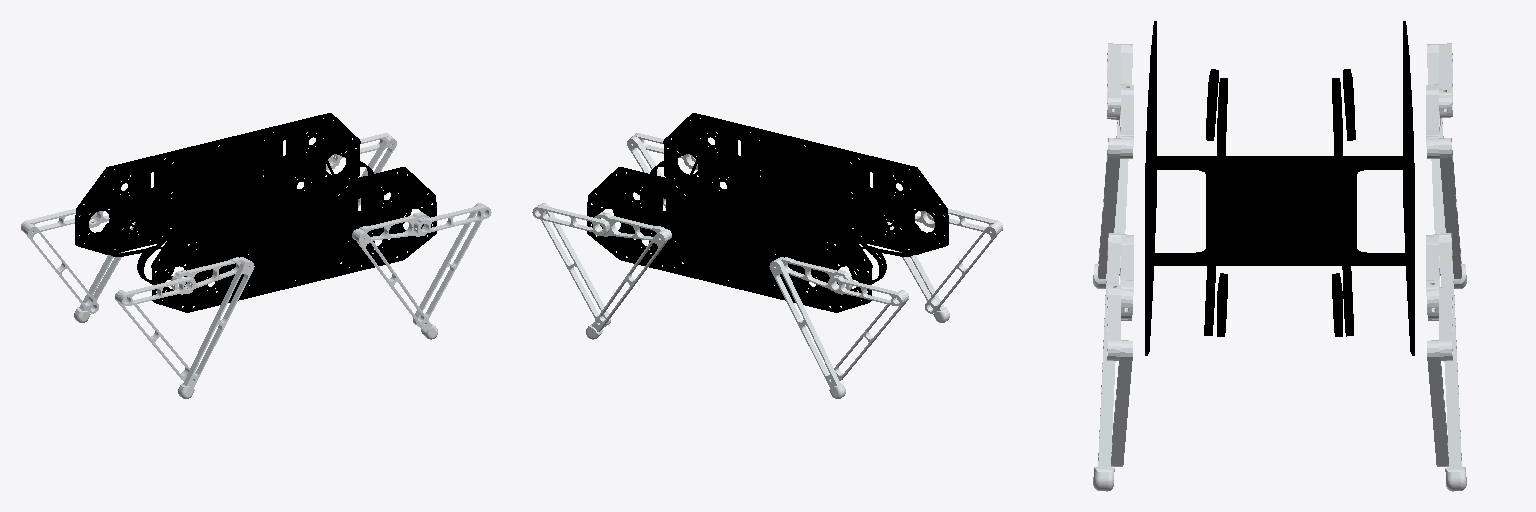
--- Facts derived from the render (not from the file) ---
Views: 3 orthographic renders of the robot side by side, from view 1: azimuth 30°, elevation 25°; view 2: azimuth 150°, elevation 25°; view 3: azimuth 270°, elevation 25°.
Model doggo_description with 22 links and 21 joints (16 continuous, 5 fixed), rooted at base_link, posed all joints at 0.
Links seen in each view (by area): view 1: frame, leg33, leg43, leg44, leg41, leg32, leg24, leg42, leg31, leg34, leg23, leg22 (+1 smaller); view 2: frame, leg23, leg13, leg14, leg11, leg22, leg34, leg12, leg21, leg24, leg33, leg32; view 3: frame, leg14, leg44, leg13, leg43, leg23, leg33, leg24, leg34, leg12, leg42, leg32 (+5 smaller).
Link boxes in pixels (x1=…): frame: x1=75, y1=113, x2=436, y2=312; leg33: x1=183, y1=259, x2=254, y2=388; leg43: x1=413, y1=203, x2=485, y2=326; leg44: x1=355, y1=231, x2=431, y2=331; leg41: x1=414, y1=205, x2=491, y2=234; leg32: x1=119, y1=277, x2=195, y2=305; leg24: x1=24, y1=224, x2=98, y2=313; leg42: x1=352, y1=212, x2=431, y2=240; leg31: x1=171, y1=257, x2=245, y2=294; leg34: x1=115, y1=290, x2=189, y2=380; leg23: x1=79, y1=220, x2=135, y2=312; leg22: x1=21, y1=204, x2=96, y2=232; frame: x1=587, y1=113, x2=948, y2=312; leg23: x1=769, y1=259, x2=840, y2=388; leg13: x1=538, y1=203, x2=610, y2=326; leg14: x1=592, y1=231, x2=668, y2=331; leg11: x1=532, y1=205, x2=609, y2=235; leg22: x1=828, y1=275, x2=904, y2=305; leg34: x1=925, y1=224, x2=999, y2=313; leg12: x1=592, y1=212, x2=671, y2=240; leg21: x1=778, y1=257, x2=852, y2=294; leg24: x1=834, y1=290, x2=908, y2=380; leg33: x1=884, y1=215, x2=944, y2=312; leg32: x1=927, y1=209, x2=1002, y2=232; frame: x1=1145, y1=21, x2=1414, y2=355; leg14: x1=1439, y1=233, x2=1461, y2=468; leg44: x1=1098, y1=233, x2=1120, y2=468; leg13: x1=1427, y1=340, x2=1448, y2=466; leg43: x1=1111, y1=340, x2=1132, y2=466; leg23: x1=1439, y1=138, x2=1461, y2=278; leg33: x1=1098, y1=138, x2=1120, y2=278; leg24: x1=1427, y1=44, x2=1445, y2=275; leg34: x1=1114, y1=44, x2=1132, y2=275; leg12: x1=1426, y1=234, x2=1439, y2=320; leg42: x1=1120, y1=234, x2=1133, y2=320; leg32: x1=1107, y1=43, x2=1120, y2=119.
Bounding box of the posed robot: 0.5458 × 0.2824 × 0.2306 m (x, y, z).
21 mesh visuals loaded from 22 distinct referenced files (21 binary STL); not drawn: 1 (reference not matched to a file when rendering).

URDF robot description (doggo_description):
<?xml version="1.0" encoding="utf-8"?>
<!-- This URDF was automatically created by SolidWorks to URDF Exporter! Originally created by Stephen Brawner ([email redacted]) 
     Commit Version: 1.5.1-0-g916b5db  Build Version: 1.5.7152.31018
     For more information, please see http://wiki.ros.org/sw_urdf_exporter -->
<robot
  name="doggo_description">

    <gazebo reference="base_link">
		<material>Gazebo/White</material>
	</gazebo>
	<gazebo reference="frame">
		<material>Gazebo/Black</material>
	</gazebo>

  <link
    name="base_link">
    <inertial>
      <origin
        xyz="4.0137E-07 -5.4265E-09 -0.0050974"
        rpy="0 0 0" />
      <!-- 1.6553 -->
      <mass
        value="1.6553" />
      <inertia
        ixx="0.0019798"
        ixy="-4.1121E-08"
        ixz="-3.9928E-09"
        iyy="0.0014157"
        iyz="-4.2669E-10"
        izz="0.001756" />
    </inertial>
    <visual>
      <origin
        xyz="0 0 0"
        rpy="0 0 0" />
      <geometry>
        <mesh
          filename="package://doggo_description/meshes/base_link." />
      </geometry>
      <material
        name="">
        <color
          rgba="1 1 1 1" />
      </material>
    </visual>
    <collision>
      <origin
        xyz="0 0 0"
        rpy="0 0 0" />
      <geometry>
        <mesh
          filename="package://doggo_description/meshes/base_link." />
      </geometry>
    </collision>
  </link>
  <link
    name="frame">
    <inertial>
      <origin
        xyz="-0.098956 0.012762 -0.17499"
        rpy="0 0 0" />
      <mass
        value="0.44543" />
      <inertia
        ixx="0.004949"
        ixy="-1.5499E-05"
        ixz="2.3781E-15"
        iyy="0.0046541"
        iyz="-1.2495E-16"
        izz="0.00060534" />
    </inertial>
    <visual>
      <origin
        xyz="0 0 0"
        rpy="0 0 0" />
      <geometry>
        <mesh
          filename="package://doggo_description/meshes/frame.STL" />
      </geometry>
      <material
        name="">
        <color
          rgba="0 0 0 1" />
      </material>
    </visual>
    <collision>
      <origin
        xyz="0 0 0"
        rpy="0 0 0" />
      <geometry>
        <mesh
          filename="package://doggo_description/meshes/frame.STL" />
      </geometry>
    </collision>
  </link>
  <joint
    name="base_frame"
    type="fixed">
    <origin
      xyz="-0.174999999999967 -0.0992757156092079 -0.0118897657684994"
      rpy="1.57079632679489 -0.0523598775598229 -1.5707963267949" />
    <parent
      link="base_link" />
    <child
      link="frame" />
    <axis
      xyz="0 0 0" />
  </joint>
  <link
    name="leg11">
    <inertial>
      <origin
        xyz="0.00473641153079969 -0.0400546917663641 -0.000402773248607047"
        rpy="0 0 0" />
      <mass
        value="0.0177492811466513" />
      <inertia
        ixx="2.26666365128031E-05"
        ixy="-7.05482831182034E-13"
        ixz="-2.10434595791076E-13"
        iyy="8.22376388767111E-07"
        iyz="2.84555978380763E-07"
        izz="2.21159117116047E-05" />
    </inertial>
    <visual>
      <origin
        xyz="0 0 0"
        rpy="0 0 0" />
      <geometry>
        <mesh
          filename="package://doggo_description/meshes/leg11.STL" />
      </geometry>
      <material
        name="">
        <color
          rgba="0.898039215686275 0.917647058823529 0.929411764705882 1" />
      </material>
    </visual>
    <collision>
      <origin
        xyz="0 0 0"
        rpy="0 0 0" />
      <geometry>
        <mesh
          filename="package://doggo_description/meshes/leg11.STL" />
      </geometry>
    </collision>
  </link>
  <joint
    name="frame_leg11"
    type="continuous">
    <origin
      xyz="-0.219712353732748 0.0126440812806081 -0.35"
      rpy="1.57079632679489 0 3.03687289847014" />
    <parent
      link="frame" />
    <child
      link="leg11" />
    <axis
      xyz="1 0 0" />
  </joint>
  <link
    name="leg13">
    <inertial>
      <origin
        xyz="-0.0047885894733085 -0.0778812653760268 5.27355936696949E-16"
        rpy="0 0 0" />
      <mass
        value="0.0249183575640696" />
      <inertia
        ixx="8.50714680974236E-05"
        ixy="-5.24101636113598E-21"
        ixz="-8.470329472543E-22"
        iyy="1.15093364635689E-06"
        iyz="-1.98981398276928E-20"
        izz="8.42973233783957E-05" />
    </inertial>
    <visual>
      <origin
        xyz="0 0 0"
        rpy="0 0 0" />
      <geometry>
        <mesh
          filename="package://doggo_description/meshes/leg13.STL" />
      </geometry>
      <material
        name="">
        <color
          rgba="0.898039215686275 0.917647058823529 0.929411764705882 1" />
      </material>
    </visual>
    <collision>
      <origin
        xyz="0 0 0"
        rpy="0 0 0" />
      <geometry>
        <mesh
          filename="package://doggo_description/meshes/leg13.STL" />
      </geometry>
    </collision>
  </link>
  <joint
    name="leg11_leg13"
    type="continuous">
    <origin
      xyz="0 -0.09 0"
      rpy="2.18846006023504 0 0" />
    <parent
      link="leg11" />
    <child
      link="leg13" />
    <axis
      xyz="1 0 0" />
  </joint>
  <link
    name="leg12">
    <inertial>
      <origin
        xyz="-0.00478858450409037 -0.0250709741997628 -0.000508253782198557"
        rpy="0 0 0" />
      <mass
        value="0.0248452488629152" />
      <inertia
        ixx="3.18814346047358E-05"
        ixy="-4.21856160922778E-12"
        ixz="2.28295592667529E-14"
        iyy="1.87736029511954E-06"
        iyz="-4.60366749634874E-08"
        izz="3.03827516292619E-05" />
    </inertial>
    <visual>
      <origin
        xyz="0 0 0"
        rpy="0 0 0" />
      <geometry>
        <mesh
          filename="package://doggo_description/meshes/leg12.STL" />
      </geometry>
      <material
        name="">
        <color
          rgba="0.898039215686275 0.917647058823529 0.929411764705882 1" />
      </material>
    </visual>
    <collision>
      <origin
        xyz="0 0 0"
        rpy="0 0 0" />
      <geometry>
        <mesh
          filename="package://doggo_description/meshes/leg12.STL" />
      </geometry>
    </collision>
  </link>
  <joint
    name="frame_leg12"
    type="continuous">
    <origin
      xyz="-0.219712353732748 0.012644081280608 -0.34"
      rpy="-1.51465572998769 0 3.03687289847014" />
    <parent
      link="frame" />
    <child
      link="leg12" />
    <axis
      xyz="1 0 0" />
  </joint>
  <link
    name="leg14">
    <inertial>
      <origin
        xyz="0.00473641052669149 -0.0857929956840353 3.25017790459015E-14"
        rpy="0 0 0" />
      <mass
        value="0.0302066230898901" />
      <inertia
        ixx="0.000123370358212557"
        ixy="1.29304873354289E-20"
        ixz="6.35274710440725E-22"
        iyy="1.01593562451106E-06"
        iyz="-6.19368259905878E-17"
        izz="0.000122811175047875" />
    </inertial>
    <visual>
      <origin
        xyz="0 0 0"
        rpy="0 0 0" />
      <geometry>
        <mesh
          filename="package://doggo_description/meshes/leg14.STL" />
      </geometry>
      <material
        name="">
        <color
          rgba="0.898039215686275 0.917647058823529 0.929411764705882 1" />
      </material>
    </visual>
    <collision>
      <origin
        xyz="0 0 0"
        rpy="0 0 0" />
      <geometry>
        <mesh
          filename="package://doggo_description/meshes/leg14.STL" />
      </geometry>
    </collision>
  </link>
  <joint
    name="leg12_leg14"
    type="continuous">
    <origin
      xyz="0 -0.0800157546944706 -0.000561111111111217"
      rpy="-2.18846006023503 0 0" />
    <parent
      link="leg12" />
    <child
      link="leg14" />
    <axis
      xyz="1 0 0" />
  </joint>
  <link
    name="shoe1">
    <inertial>
      <origin
        xyz="0.00526347046647044 -0.179876460917477 -3.47847804865742E-08"
        rpy="0 0 0" />
      <mass
        value="0.0067619489677717" />
      <inertia
        ixx="2.89934238268779E-07"
        ixy="-4.53173826351264E-12"
        ixz="1.11948400149251E-11"
        iyy="3.09327713491595E-07"
        iyz="1.02889131421492E-11"
        izz="2.89371081098196E-07" />
    </inertial>
    <visual>
      <origin
        xyz="0 0 0"
        rpy="0 0 0" />
      <geometry>
        <mesh
          filename="package://doggo_description/meshes/shoe1.STL" />
      </geometry>
      <material
        name="">
        <color
          rgba="0.898039215686275 0.917647058823529 0.929411764705882 1" />
      </material>
    </visual>
    <collision>
      <origin
        xyz="0 0 0"
        rpy="0 0 0" />
      <geometry>
        <mesh
          filename="package://doggo_description/meshes/shoe1.STL" />
      </geometry>
      <surface>
        <friction>
	      <mu>1000.0</mu>
	      <mu2>1000.0</mu2>
	      <kp value="1.0" />
	      <kd value="10000000.0"/>
	      <fdir1>1 1 1 </fdir1>
	      <minDepth>0.005</minDepth>
        </friction>
      </surface>
    </collision>
  </link>
  <joint
    name="leg14_shoe1"
    type="fixed">
    <origin
      xyz="0.01 0 0"
      rpy="3.14159265358979 0 3.14159265358979" />
    <parent
      link="leg14" />
    <child
      link="shoe1" />
    <axis
      xyz="0 0 0" />
  </joint>
  <link
    name="leg21">
    <inertial>
      <origin
        xyz="0.00473641523493279 -0.0350552092175932 5.28600552103476E-05"
        rpy="0 0 0" />
      <mass
        value="0.0248452593322982" />
      <inertia
        ixx="3.18814417563457E-05"
        ixy="-4.03765604646941E-12"
        ixz="5.00275704685331E-14"
        iyy="1.87736032635851E-06"
        iyz="-4.60381023078403E-08"
        izz="3.03827587093249E-05" />
    </inertial>
    <visual>
      <origin
        xyz="0 0 0"
        rpy="0 0 0" />
      <geometry>
        <mesh
          filename="package://doggo_description/meshes/leg21.STL" />
      </geometry>
      <material
        name="">
        <color
          rgba="0.898039215686275 0.917647058823529 0.929411764705882 1" />
      </material>
    </visual>
    <collision>
      <origin
        xyz="0 0 0"
        rpy="0 0 0" />
      <geometry>
        <mesh
          filename="package://doggo_description/meshes/leg21.STL" />
      </geometry>
    </collision>
  </link>
  <joint
    name="frame_leg21"
    type="continuous">
    <origin
      xyz="-0.210239532679365 0.0116484476679836 0"
      rpy="1.51465572998769 0 3.03687289847014" />
    <parent
      link="frame" />
    <child
      link="leg21" />
    <axis
      xyz="1 0 0" />
  </joint>
  <link
    name="leg23">
    <inertial>
      <origin
        xyz="0.0047365130400379 -0.0857929956840341 3.4180991370647E-14"
        rpy="0 0 0" />
      <mass
        value="0.0302066230898895" />
      <inertia
        ixx="0.000123370358212556"
        ixy="-2.27305923607122E-19"
        ixz="0"
        iyy="1.01593562451131E-06"
        iyz="-6.34294052669368E-17"
        izz="0.000122811175047873" />
    </inertial>
    <visual>
      <origin
        xyz="0 0 0"
        rpy="0 0 0" />
      <geometry>
        <mesh
          filename="package://doggo_description/meshes/leg23.STL" />
      </geometry>
      <material
        name="">
        <color
          rgba="0.898039215686275 0.917647058823529 0.929411764705882 1" />
      </material>
    </visual>
    <collision>
      <origin
        xyz="0 0 0"
        rpy="0 0 0" />
      <geometry>
        <mesh
          filename="package://doggo_description/meshes/leg23.STL" />
      </geometry>
    </collision>
  </link>
  <joint
    name="leg21_leg23"
    type="continuous">
    <origin
      xyz="0.0095248974866534 -0.09 0"
      rpy="2.18846006023503 0 0" />
    <parent
      link="leg21" />
    <child
      link="leg23" />
    <axis
      xyz="1 0 0" />
  </joint>
  <link
    name="shoe2">
    <inertial>
      <origin
        xyz="0.00526334634534026 -0.179876470411932 -4.73843669024365E-08"
        rpy="0 0 0" />
      <mass
        value="0.00676194704431705" />
      <inertia
        ixx="2.89933725898764E-07"
        ixy="-3.59739076728077E-12"
        ixz="1.13806903467384E-11"
        iyy="3.09327965440927E-07"
        iyz="1.13005668961044E-11"
        izz="2.89371624270925E-07" />
    </inertial>
    <visual>
      <origin
        xyz="0 0 0"
        rpy="0 0 0" />
      <geometry>
        <mesh
          filename="package://doggo_description/meshes/shoe2.STL" />
      </geometry>
      <material
        name="">
        <color
          rgba="0.898039215686275 0.917647058823529 0.929411764705882 1" />
      </material>
    </visual>
    <collision>
      <origin
        xyz="0 0 0"
        rpy="0 0 0" />
      <geometry>
        <mesh
          filename="package://doggo_description/meshes/shoe2.STL" />
      </geometry>
      <surface>
        <friction>
	      <mu>1000.0</mu>
	      <mu2>1000.0</mu2>
	      <kp value="1.0" />
	      <kd value="10000000.0"/>
	      <fdir1>1 1 1 </fdir1>
	      <minDepth>0.005</minDepth>
        </friction>
      </surface>
    </collision>
  </link>
  <joint
    name="leg23_shoe2"
    type="fixed">
    <origin
      xyz="0.01 0 0"
      rpy="3.14159265358979 0 3.14159265358979" />
    <parent
      link="leg23" />
    <child
      link="shoe2" />
    <axis
      xyz="0 0 0" />
  </joint>
  <link
    name="leg22">
    <inertial>
      <origin
        xyz="0.00426141153079966 -0.0400546917663641 -0.0004027732486068"
        rpy="0 0 0" />
      <mass
        value="0.0177492811466513" />
      <inertia
        ixx="2.26666365128031E-05"
        ixy="-7.05482824567954E-13"
        ixz="-2.10434599496845E-13"
        iyy="8.22376388767116E-07"
        iyz="2.8455597838094E-07"
        izz="2.21159117116047E-05" />
    </inertial>
    <visual>
      <origin
        xyz="0 0 0"
        rpy="0 0 0" />
      <geometry>
        <mesh
          filename="package://doggo_description/meshes/leg22.STL" />
      </geometry>
      <material
        name="">
        <color
          rgba="0.898039215686275 0.917647058823529 0.929411764705882 1" />
      </material>
    </visual>
    <collision>
      <origin
        xyz="0 0 0"
        rpy="0 0 0" />
      <geometry>
        <mesh
          filename="package://doggo_description/meshes/leg22.STL" />
      </geometry>
    </collision>
  </link>
  <joint
    name="frame_leg22"
    type="continuous">
    <origin
      xyz="-0.220184751633048 0.01269373230066 0"
      rpy="-1.5707963267949 0 3.03687289847014" />
    <parent
      link="frame" />
    <child
      link="leg22" />
    <axis
      xyz="1 0 0" />
  </joint>
  <link
    name="leg24">
    <inertial>
      <origin
        xyz="-0.00526358947330857 -0.0778812653760269 5.27355936696949E-16"
        rpy="0 0 0" />
      <mass
        value="0.0249183575640697" />
      <inertia
        ixx="8.50714680974238E-05"
        ixy="-3.11052997544441E-20"
        ixz="-1.90582413132218E-21"
        iyy="1.15093364635692E-06"
        iyz="-2.22540536098204E-20"
        izz="8.42973233783957E-05" />
    </inertial>
    <visual>
      <origin
        xyz="0 0 0"
        rpy="0 0 0" />
      <geometry>
        <mesh
          filename="package://doggo_description/meshes/leg24.STL" />
      </geometry>
      <material
        name="">
        <color
          rgba="0.898039215686275 0.917647058823529 0.929411764705882 1" />
      </material>
    </visual>
    <collision>
      <origin
        xyz="0 0 0"
        rpy="0 0 0" />
      <geometry>
        <mesh
          filename="package://doggo_description/meshes/leg24.STL" />
      </geometry>
    </collision>
  </link>
  <joint
    name="leg22_leg24"
    type="continuous">
    <origin
      xyz="0 -0.09 0"
      rpy="-2.18846006023503 0 0" />
    <parent
      link="leg22" />
    <child
      link="leg24" />
    <axis
      xyz="1 0 0" />
  </joint>
  <link
    name="leg31">
    <inertial>
      <origin
        xyz="0.00676250496921826 -0.0350552195052921 5.28573289125152E-05"
        rpy="0 0 0" />
      <mass
        value="0.0248452488629152" />
      <inertia
        ixx="3.18814346047358E-05"
        ixy="-4.21856161706842E-12"
        ixz="2.28295600079067E-14"
        iyy="1.87736029511954E-06"
        iyz="-4.60366749635035E-08"
        izz="3.0382751629262E-05" />
    </inertial>
    <visual>
      <origin
        xyz="0 0 0"
        rpy="0 0 0" />
      <geometry>
        <mesh
          filename="package://doggo_description/meshes/leg31.STL" />
      </geometry>
      <material
        name="">
        <color
          rgba="0.898039215686275 0.917647058823529 0.929411764705882 1" />
      </material>
    </visual>
    <collision>
      <origin
        xyz="0 0 0"
        rpy="0 0 0" />
      <geometry>
        <mesh
          filename="package://doggo_description/meshes/leg31.STL" />
      </geometry>
    </collision>
  </link>
  <joint
    name="frame_leg31"
    type="continuous">
    <origin
      xyz="0.01 0 0"
      rpy="1.6269369236021 0 0" />
    <parent
      link="frame" />
    <child
      link="leg31" />
    <axis
      xyz="1 0 0" />
  </joint>
  <link
    name="leg33">
    <inertial>
      <origin
        xyz="0.0137813538834254 -0.0857929956840353 3.2460145682478E-14"
        rpy="0 0 0" />
      <mass
        value="0.0302066230898901" />
      <inertia
        ixx="0.000123370358212557"
        ixy="-1.34317587866361E-19"
        ixz="-1.27054942088145E-21"
        iyy="1.01593562451106E-06"
        iyz="-6.19601779196656E-17"
        izz="0.000122811175047875" />
    </inertial>
    <visual>
      <origin
        xyz="0 0 0"
        rpy="0 0 0" />
      <geometry>
        <mesh
          filename="package://doggo_description/meshes/leg33.STL" />
      </geometry>
      <material
        name="">
        <color
          rgba="0.898039215686275 0.917647058823529 0.929411764705882 1" />
      </material>
    </visual>
    <collision>
      <origin
        xyz="0 0 0"
        rpy="0 0 0" />
      <geometry>
        <mesh
          filename="package://doggo_description/meshes/leg33.STL" />
      </geometry>
    </collision>
  </link>
  <joint
    name="leg31_leg33"
    type="continuous">
    <origin
      xyz="0.00250614611657457 -0.0899999999999999 0"
      rpy="-2.18846006023503 0 0" />
    <parent
      link="leg31" />
    <child
      link="leg33" />
    <axis
      xyz="1 0 0" />
  </joint>
  <link
    name="shoe3">
    <inertial>
      <origin
        xyz="0.00378120255404579 -0.179876453100306 -6.02841195157522E-08"
        rpy="0 0 0" />
      <mass
        value="0.00676194246801817" />
      <inertia
        ixx="2.89933378234274E-07"
        ixy="-3.40400314738815E-12"
        ixz="1.07934692580414E-11"
        iyy="3.09327744880635E-07"
        iyz="1.15463175981782E-11"
        izz="2.89371750215061E-07" />
    </inertial>
    <visual>
      <origin
        xyz="0 0 0"
        rpy="0 0 0" />
      <geometry>
        <mesh
          filename="package://doggo_description/meshes/shoe3.STL" />
      </geometry>
      <material
        name="">
        <color
          rgba="0.898039215686275 0.917647058823529 0.929411764705882 1" />
      </material>
    </visual>
    <collision>
      <origin
        xyz="0 0 0"
        rpy="0 0 0" />
      <geometry>
        <mesh
          filename="package://doggo_description/meshes/shoe3.STL" />
      </geometry>
      <surface>
        <friction>
	      <mu>1000.0</mu>
	      <mu2>1000.0</mu2>
	      <kp value="1.0" />
	      <kd value="10000000.0"/>
	      <fdir1>1 1 1 </fdir1>
	      <minDepth>0.005</minDepth>
        </friction>
      </surface>
    </collision>
  </link>
  <joint
    name="leg33_shoe3"
    type="fixed">
    <origin
      xyz="0.01 0 0"
      rpy="0 0 0" />
    <parent
      link="leg33" />
    <child
      link="shoe3" />
    <axis
      xyz="0 0 0" />
  </joint>
  <link
    name="leg32">
    <inertial>
      <origin
        xyz="0.00613230165905557 -0.0400546917663641 -0.000402773248606731"
        rpy="0 0 0" />
      <mass
        value="0.0177492811466513" />
      <inertia
        ixx="2.26666365128031E-05"
        ixy="-7.05482818903421E-13"
        ixz="-2.10434597485142E-13"
        iyy="8.22376388767114E-07"
        iyz="2.84555978380928E-07"
        izz="2.21159117116047E-05" />
    </inertial>
    <visual>
      <origin
        xyz="0 0 0"
        rpy="0 0 0" />
      <geometry>
        <mesh
          filename="package://doggo_description/meshes/leg32.STL" />
      </geometry>
      <material
        name="">
        <color
          rgba="0.898039215686275 0.917647058823529 0.929411764705882 1" />
      </material>
    </visual>
    <collision>
      <origin
        xyz="0 0 0"
        rpy="0 0 0" />
      <geometry>
        <mesh
          filename="package://doggo_description/meshes/leg32.STL" />
      </geometry>
    </collision>
  </link>
  <joint
    name="frame_leg32"
    type="continuous">
    <origin
      xyz="0.0201551993450529 0 0"
      rpy="-1.5707963267949 0 0" />
    <parent
      link="frame" />
    <child
      link="leg32" />
    <axis
      xyz="1 0 0" />
  </joint>
  <link
    name="leg34">
    <inertial>
      <origin
        xyz="-0.00339269934505262 -0.0778812653760269 3.33066907387547E-16"
        rpy="0 0 0" />
      <mass
        value="0.0249183575640697" />
      <inertia
        ixx="8.50714680974238E-05"
        ixy="1.81043366308256E-19"
        ixz="-1.6940658945086E-21"
        iyy="1.15093364635692E-06"
        iyz="-2.21036721744582E-19"
        izz="8.42973233783958E-05" />
    </inertial>
    <visual>
      <origin
        xyz="0 0 0"
        rpy="0 0 0" />
      <geometry>
        <mesh
          filename="package://doggo_description/meshes/leg34.STL" />
      </geometry>
      <material
        name="">
        <color
          rgba="0.898039215686275 0.917647058823529 0.929411764705882 1" />
      </material>
    </visual>
    <collision>
      <origin
        xyz="0 0 0"
        rpy="0 0 0" />
      <geometry>
        <mesh
          filename="package://doggo_description/meshes/leg34.STL" />
      </geometry>
    </collision>
  </link>
  <joint
    name="leg32_leg34"
    type="continuous">
    <origin
      xyz="0 -0.0899999999999999 0"
      rpy="2.18846006023503 0 0" />
    <parent
      link="leg32" />
    <child
      link="leg34" />
    <axis
      xyz="1 0 0" />
  </joint>
  <link
    name="leg41">
    <inertial>
      <origin
        xyz="0.00575552140515104 -0.0400546917663641 -0.00040277324860696"
        rpy="0 0 0" />
      <mass
        value="0.0177492811466514" />
      <inertia
        ixx="2.26666365128032E-05"
        ixy="-7.05482824045324E-13"
        ixz="-2.10434598332175E-13"
        iyy="8.22376388767114E-07"
        iyz="2.84555978380827E-07"
        izz="2.21159117116048E-05" />
    </inertial>
    <visual>
      <origin
        xyz="0 0 0"
        rpy="0 0 0" />
      <geometry>
        <mesh
          filename="package://doggo_description/meshes/leg41.STL" />
      </geometry>
      <material
        name="">
        <color
          rgba="0.898039215686275 0.917647058823529 0.929411764705882 1" />
      </material>
    </visual>
    <collision>
      <origin
        xyz="0 0 0"
        rpy="0 0 0" />
      <geometry>
        <mesh
          filename="package://doggo_description/meshes/leg41.STL" />
      </geometry>
    </collision>
  </link>
  <joint
    name="frame_leg41"
    type="continuous">
    <origin
      xyz="0.020531979598957 0 -0.35"
      rpy="1.57079632679489 0 0" />
    <parent
      link="frame" />
    <child
      link="leg41" />
    <axis
      xyz="1 0 0" />
  </joint>
  <link
    name="leg43">
    <inertial>
      <origin
        xyz="-0.00376947959895713 -0.0778812653760269 2.77555756156289E-16"
        rpy="0 0 0" />
      <mass
        value="0.0249183575640696" />
      <inertia
        ixx="8.50714680974237E-05"
        ixy="1.00641410768102E-19"
        ixz="4.2351647362715E-22"
        iyy="1.15093364635691E-06"
        iyz="-2.41944849100202E-19"
        izz="8.42973233783958E-05" />
    </inertial>
    <visual>
      <origin
        xyz="0 0 0"
        rpy="0 0 0" />
      <geometry>
        <mesh
          filename="package://doggo_description/meshes/leg43.STL" />
      </geometry>
      <material
        name="">
        <color
          rgba="0.898039215686275 0.917647058823529 0.929411764705882 1" />
      </material>
    </visual>
    <collision>
      <origin
        xyz="0 0 0"
        rpy="0 0 0" />
      <geometry>
        <mesh
          filename="package://doggo_description/meshes/leg43.STL" />
      </geometry>
    </collision>
  </link>
  <joint
    name="leg41_leg43"
    type="continuous">
    <origin
      xyz="0 -0.09 0"
      rpy="-2.18846006023503 0 0" />
    <parent
      link="leg41" />
    <child
      link="leg43" />
    <axis
      xyz="1 0 0" />
  </joint>
  <link
    name="leg42">
    <inertial>
      <origin
        xyz="0.00660730536318853 -0.0350552092175932 5.2860055210365E-05"
        rpy="0 0 0" />
      <mass
        value="0.0248452593322981" />
      <inertia
        ixx="3.18814417563456E-05"
        ixy="-4.03765606066135E-12"
        ixz="5.0027568562709E-14"
        iyy="1.8773603263585E-06"
        iyz="-4.60381023078596E-08"
        izz="3.03827587093249E-05" />
    </inertial>
    <visual>
      <origin
        xyz="0 0 0"
        rpy="0 0 0" />
      <geometry>
        <mesh
          filename="package://doggo_description/meshes/leg42.STL" />
      </geometry>
      <material
        name="">
        <color
          rgba="0.898039215686275 0.917647058823529 0.929411764705882 1" />
      </material>
    </visual>
    <collision>
      <origin
        xyz="0 0 0"
        rpy="0 0 0" />
      <geometry>
        <mesh
          filename="package://doggo_description/meshes/leg42.STL" />
      </geometry>
    </collision>
  </link>
  <joint
    name="frame_leg42"
    type="continuous">
    <origin
      xyz="0.0101551993450526 0 -0.35"
      rpy="-1.6269369236021 0 0" />
    <parent
      link="frame" />
    <child
      link="leg42" />
    <axis
      xyz="1 0 0" />
  </joint>
  <link
    name="leg44">
    <inertial>
      <origin
        xyz="0.0137813538834251 -0.0857929956840341 3.41254802194157E-14"
        rpy="0 0 0" />
      <mass
        value="0.0302066230898895" />
      <inertia
        ixx="0.000123370358212556"
        ixy="-4.39858253808748E-19"
        ixz="1.6940658945086E-21"
        iyy="1.01593562451133E-06"
        iyz="-6.34940714554916E-17"
        izz="0.000122811175047873" />
    </inertial>
    <visual>
      <origin
        xyz="0 0 0"
        rpy="0 0 0" />
      <geometry>
        <mesh
          filename="package://doggo_description/meshes/leg44.STL" />
      </geometry>
      <material
        name="">
        <color
          rgba="0.898039215686275 0.917647058823529 0.929411764705882 1" />
      </material>
    </visual>
    <collision>
      <origin
        xyz="0 0 0"
        rpy="0 0 0" />
      <geometry>
        <mesh
          filename="package://doggo_description/meshes/leg44.STL" />
      </geometry>
    </collision>
  </link>
  <joint
    name="leg42_leg44"
    type="continuous">
    <origin
      xyz="0.00235094677152173 -0.09 0"
      rpy="2.18846006023503 0 0" />
    <parent
      link="leg42" />
    <child
      link="leg44" />
    <axis
      xyz="1 0 0" />
  </joint>
  <link
    name="shoe4">
    <inertial>
      <origin
        xyz="0.00378122419555416 -0.179876443426376 -4.78241996282325E-08"
        rpy="0 0 0" />
      <mass
        value="0.00676194448321673" />
      <inertia
        ixx="2.89933872075379E-07"
        ixy="-4.3343838597577E-12"
        ixz="1.06267003306052E-11"
        iyy="3.09327434428408E-07"
        iyz="1.05191066462915E-11"
        izz="2.89371183528626E-07" />
    </inertial>
    <visual>
      <origin
        xyz="0 0 0"
        rpy="0 0 0" />
      <geometry>
        <mesh
          filename="package://doggo_description/meshes/shoe4.STL" />
      </geometry>
      <material
        name="">
        <color
          rgba="0.898039215686275 0.917647058823529 0.929411764705882 1" />
      </material>
    </visual>
    <collision>
      <origin
        xyz="0 0 0"
        rpy="0 0 0" />
      <geometry>
        <mesh
          filename="package://doggo_description/meshes/shoe4.STL" />
      </geometry>
      <surface>
        <friction>
	      <mu>1000.0</mu>
	      <mu2>1000.0</mu2>
	      <kp value="1.0" />
	      <kd value="10000000.0"/>
	      <fdir1>1 1 1 </fdir1>
	      <minDepth>0.005</minDepth>
        </friction>
      </surface>
    </collision>
  </link>
  <joint
    name="leg44_shoe4"
    type="fixed">
    <origin
      xyz="0.01 0 0"
      rpy="0 0 0" />
    <parent
      link="leg44" />
    <child
      link="shoe4" />
    <axis
      xyz="0 0 0" />
  </joint>

  <transmission name="frame_leg11">
    <type>transmission_interface/SimpleTransmission</type>
    <joint name="frame_leg11" >
      <hardwareInterface>EffortJointInterface</hardwareInterface>
    </joint>
    <actuator name="frame_leg11">
      <hardwareInterface>EffortJointInterface</hardwareInterface>
      <mechanicalReduction>1</mechanicalReduction>
    </actuator>
  </transmission> 

  <transmission name="frame_leg12">
    <type>transmission_interface/SimpleTransmission</type>
    <joint name="frame_leg12" >
      <hardwareInterface>EffortJointInterface</hardwareInterface>
    </joint>
    <actuator name="frame_leg12">
      <hardwareInterface>EffortJointInterface</hardwareInterface>
      <mechanicalReduction>1</mechanicalReduction>
    </actuator>
  </transmission> 

  <transmission name="frame_leg21">
    <type>transmission_interface/SimpleTransmission</type>
    <joint name="frame_leg21" >
      <hardwareInterface>EffortJointInterface</hardwareInterface>
    </joint>
    <actuator name="frame_leg21">
      <hardwareInterface>EffortJointInterface</hardwareInterface>
      <mechanicalReduction>1</mechanicalReduction>
    </actuator>
  </transmission> 

  <transmission name="frame_leg22">
    <type>transmission_interface/SimpleTransmission</type>
    <joint name="frame_leg22" >
      <hardwareInterface>EffortJointInterface</hardwareInterface>
    </joint>
    <actuator name="frame_leg22">
      <hardwareInterface>EffortJointInterface</hardwareInterface>
      <mechanicalReduction>1</mechanicalReduction>
    </actuator>
  </transmission> 

  <transmission name="frame_leg31">
    <type>transmission_interface/SimpleTransmission</type>
    <joint name="frame_leg31" >
      <hardwareInterface>EffortJointInterface</hardwareInterface>
    </joint>
    <actuator name="frame_leg31">
      <hardwareInterface>EffortJointInterface</hardwareInterface>
      <mechanicalReduction>1</mechanicalReduction>
    </actuator>
  </transmission> 

  <transmission name="frame_leg32">
    <type>transmission_interface/SimpleTransmission</type>
    <joint name="frame_leg32" >
      <hardwareInterface>EffortJointInterface</hardwareInterface>
    </joint>
    <actuator name="frame_leg32">
      <hardwareInterface>EffortJointInterface</hardwareInterface>
      <mechanicalReduction>1</mechanicalReduction>
    </actuator>
  </transmission> 

  <transmission name="frame_leg41">
    <type>transmission_interface/SimpleTransmission</type>
    <joint name="frame_leg41" >
      <hardwareInterface>EffortJointInterface</hardwareInterface>
    </joint>
    <actuator name="frame_leg41">
      <hardwareInterface>EffortJointInterface</hardwareInterface>
      <mechanicalReduction>1</mechanicalReduction>
    </actuator>
  </transmission> 

  <transmission name="frame_leg42">
    <type>transmission_interface/SimpleTransmission</type>
    <joint name="frame_leg42" >
      <hardwareInterface>EffortJointInterface</hardwareInterface>
    </joint>
    <actuator name="frame_leg42">
      <hardwareInterface>EffortJointInterface</hardwareInterface>
      <mechanicalReduction>1</mechanicalReduction>
    </actuator>
  </transmission> 

  <!-- Mimic Joint Transmission -->
    <transmission name="leg11_leg13">
    <type>transmission_interface/SimpleTransmission</type>
    <joint name="leg11_leg13" >
      <hardwareInterface>EffortJointInterface</hardwareInterface>
    </joint>
    <actuator name="leg11_leg13">
      <hardwareInterface>EffortJointInterface</hardwareInterface>
      <mechanicalReduction>1</mechanicalReduction>
    </actuator>
  </transmission> 

  <transmission name="leg12_leg14">
    <type>transmission_interface/SimpleTransmission</type>
    <joint name="leg12_leg14" >
      <hardwareInterface>EffortJointInterface</hardwareInterface>
    </joint>
    <actuator name="leg12_leg14">
      <hardwareInterface>EffortJointInterface</hardwareInterface>
      <mechanicalReduction>1</mechanicalReduction>
    </actuator>
  </transmission> 

  <transmission name="leg21_leg23">
    <type>transmission_interface/SimpleTransmission</type>
    <joint name="leg21_leg23" >
      <hardwareInterface>EffortJointInterface</hardwareInterface>
    </joint>
    <actuator name="leg21_leg23">
      <hardwareInterface>EffortJointInterface</hardwareInterface>
      <mechanicalReduction>1</mechanicalReduction>
    </actuator>
  </transmission> 

  <transmission name="leg22_leg24">
    <type>transmission_interface/SimpleTransmission</type>
    <joint name="leg22_leg24" >
      <hardwareInterface>EffortJointInterface</hardwareInterface>
    </joint>
    <actuator name="leg22_leg24">
      <hardwareInterface>EffortJointInterface</hardwareInterface>
      <mechanicalReduction>1</mechanicalReduction>
    </actuator>
  </transmission> 

  <transmission name="leg31_leg33">
    <type>transmission_interface/SimpleTransmission</type>
    <joint name="leg31_leg33" >
      <hardwareInterface>EffortJointInterface</hardwareInterface>
    </joint>
    <actuator name="leg31_leg33">
      <hardwareInterface>EffortJointInterface</hardwareInterface>
      <mechanicalReduction>1</mechanicalReduction>
    </actuator>
  </transmission> 

  <transmission name="leg32_leg34">
    <type>transmission_interface/SimpleTransmission</type>
    <joint name="leg32_leg34" >
      <hardwareInterface>EffortJointInterface</hardwareInterface>
    </joint>
    <actuator name="leg32_leg34">
      <hardwareInterface>EffortJointInterface</hardwareInterface>
      <mechanicalReduction>1</mechanicalReduction>
    </actuator>
  </transmission> 

  <transmission name="leg41_leg43">
    <type>transmission_interface/SimpleTransmission</type>
    <joint name="leg41_leg43" >
      <hardwareInterface>EffortJointInterface</hardwareInterface>
    </joint>
    <actuator name="leg41_leg43">
      <hardwareInterface>EffortJointInterface</hardwareInterface>
      <mechanicalReduction>1</mechanicalReduction>
    </actuator>
  </transmission> 

  <transmission name="leg42_leg44">
    <type>transmission_interface/SimpleTransmission</type>
    <joint name="leg42_leg44" >
      <hardwareInterface>EffortJointInterface</hardwareInterface>
    </joint>
    <actuator name="leg42_leg44">
      <hardwareInterface>EffortJointInterface</hardwareInterface>
      <mechanicalReduction>1</mechanicalReduction>
    </actuator>
  </transmission> 

  <gazebo>
    <plugin name="gazebo_ros_control" filename="libgazebo_ros_control.so">
      <legacyModeNS>true</legacyModeNS>
      <robotNamespace>/doggo_description</robotNamespace>
      <robotBaseFrame>base_link</robotBaseFrame>
    </plugin> 
  </gazebo>

</robot>
